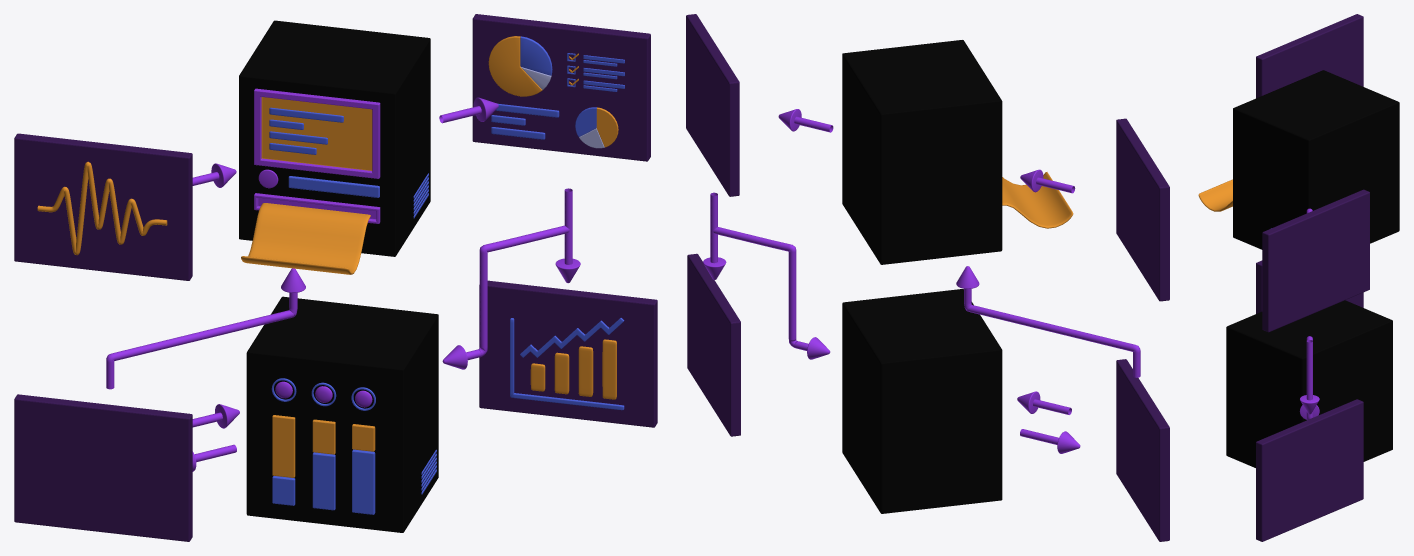
Rendered from 4.Generative Adversarial Network.glb.
3 renders of one model, left to right at view 1: azimuth 30°, elevation 25°; view 2: azimuth 150°, elevation 25°; view 3: azimuth 270°, elevation 25°, orthographic. The views are drawn at different scales.
Parts seen in each view (by area): view 1: Cube.041, Cube.036, Cube.045, Cube.042, Cube.043, Cube, Cube.037, Plane, Plane.003, Circle, NurbsPath, NurbsPath.005 (+13 smaller); view 2: Cube.036, Cube.041, Cube.042, Cube, Cube.043, Cube.045, Plane, NurbsPath.005, NurbsPath.006; view 3: Cube.036, Cube.041, Cube, Cube.043, Cube.042, Plane, Cube.045, NurbsPath.007.
Part boxes in pixels (x1=…): Cube.041: x1=246, y1=296, x2=438, y2=532; Cube.036: x1=239, y1=20, x2=430, y2=256; Cube.045: x1=14, y1=394, x2=192, y2=541; Cube.042: x1=14, y1=133, x2=192, y2=280; Cube.043: x1=479, y1=280, x2=657, y2=427; Cube: x1=472, y1=14, x2=650, y2=161; Cube.037: x1=254, y1=88, x2=380, y2=178; Plane: x1=241, y1=203, x2=370, y2=274; Plane.003: x1=510, y1=318, x2=624, y2=410; Circle: x1=488, y1=36, x2=552, y2=96; NurbsPath: x1=37, y1=161, x2=167, y2=255; NurbsPath.005: x1=106, y1=292, x2=297, y2=389; Cube.036: x1=842, y1=40, x2=1002, y2=264; Cube.041: x1=842, y1=289, x2=1002, y2=513; Cube.042: x1=1116, y1=118, x2=1169, y2=301; Cube: x1=686, y1=14, x2=739, y2=196; Cube.043: x1=687, y1=253, x2=740, y2=436; Cube.045: x1=1116, y1=359, x2=1169, y2=541; Plane: x1=1002, y1=172, x2=1073, y2=228; NurbsPath.005: x1=964, y1=288, x2=1140, y2=377; NurbsPath.006: x1=713, y1=227, x2=808, y2=350; Cube.036: x1=1233, y1=70, x2=1399, y2=249; Cube.041: x1=1226, y1=300, x2=1392, y2=467; Cube: x1=1262, y1=189, x2=1369, y2=332; Cube.043: x1=1256, y1=399, x2=1363, y2=541; Cube.042: x1=1256, y1=14, x2=1363, y2=98; Plane: x1=1198, y1=179, x2=1232, y2=211; Cube.045: x1=1256, y1=260, x2=1363, y2=313; NurbsPath.007: x1=1306, y1=340, x2=1312, y2=400.
Bounding box in the file's own units: 10.73 × 7.71 × 4.05.
